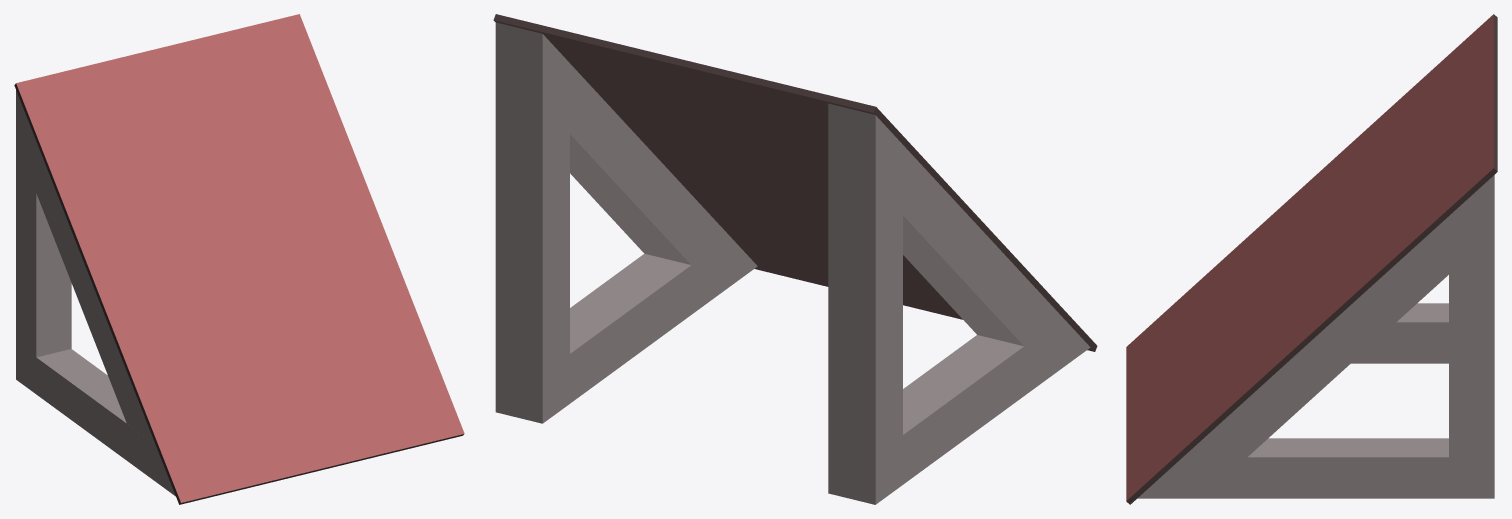
Rendered from belt_slope2.obj.
The picture shows the model from 3 angles, left to right: view 1: azimuth 30°, elevation 25°; view 2: azimuth 150°, elevation 25°; view 3: azimuth 270°, elevation 25°; orthographic projection. The views are drawn at different scales.
Visible parts, largest first — view 1: SlopBelt.004, SlopBelt.003; view 2: SlopBelt.004, SlopBelt.003; view 3: SlopBelt.004, SlopBelt.003.
Boxes of the visible parts, x1,y1,x2,y2 form: SlopBelt.004: [14, 14, 464, 504]; SlopBelt.003: [16, 90, 175, 496]; SlopBelt.004: [493, 14, 1097, 423]; SlopBelt.003: [828, 103, 1090, 504]; SlopBelt.004: [1126, 14, 1497, 504]; SlopBelt.003: [1351, 303, 1448, 363].
Size of the model in its own units: 1 by 1.02 by 1.02.
